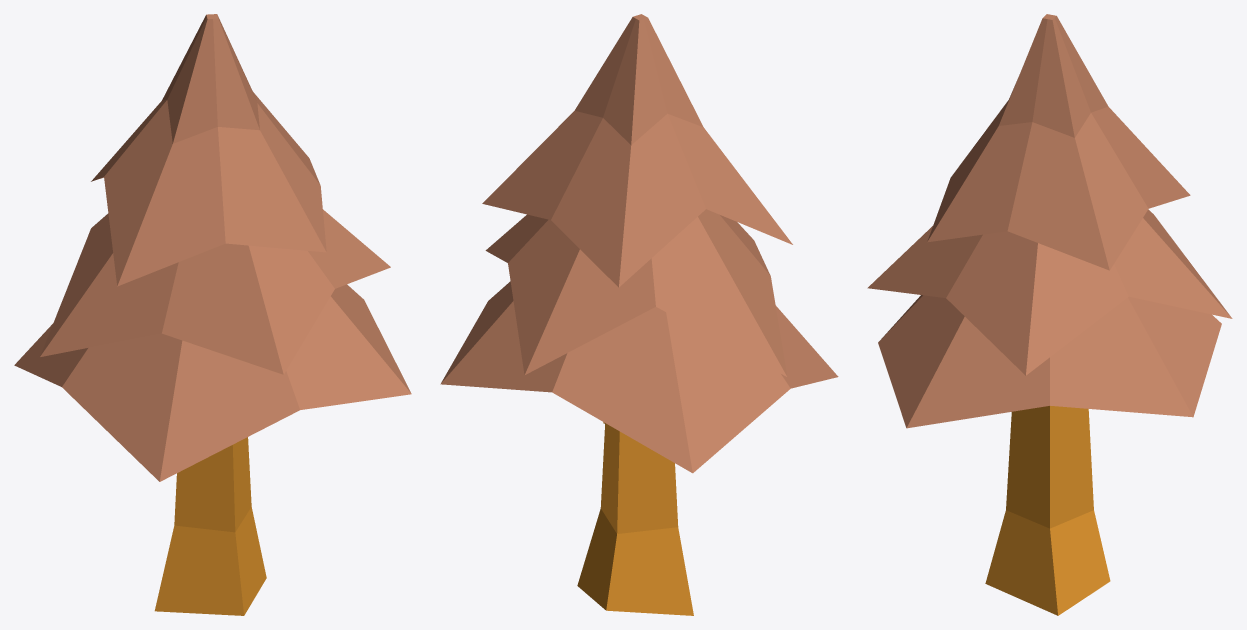
Rendered from pine_tree_0.obj.
3 renders of one model, left to right at view 1: azimuth 30°, elevation 25°; view 2: azimuth 150°, elevation 25°; view 3: azimuth 270°, elevation 25°, orthographic.
Parts seen in each view (by area): view 1: pine_tree_0; view 2: pine_tree_0; view 3: pine_tree_0.
Part boxes in pixels (bbox=[...]): pine_tree_0: bbox=[14, 14, 411, 615]; pine_tree_0: bbox=[440, 14, 838, 615]; pine_tree_0: bbox=[867, 14, 1232, 615].
Bounding box in the file's own units: 12.97 × 22.11 × 12.75.
